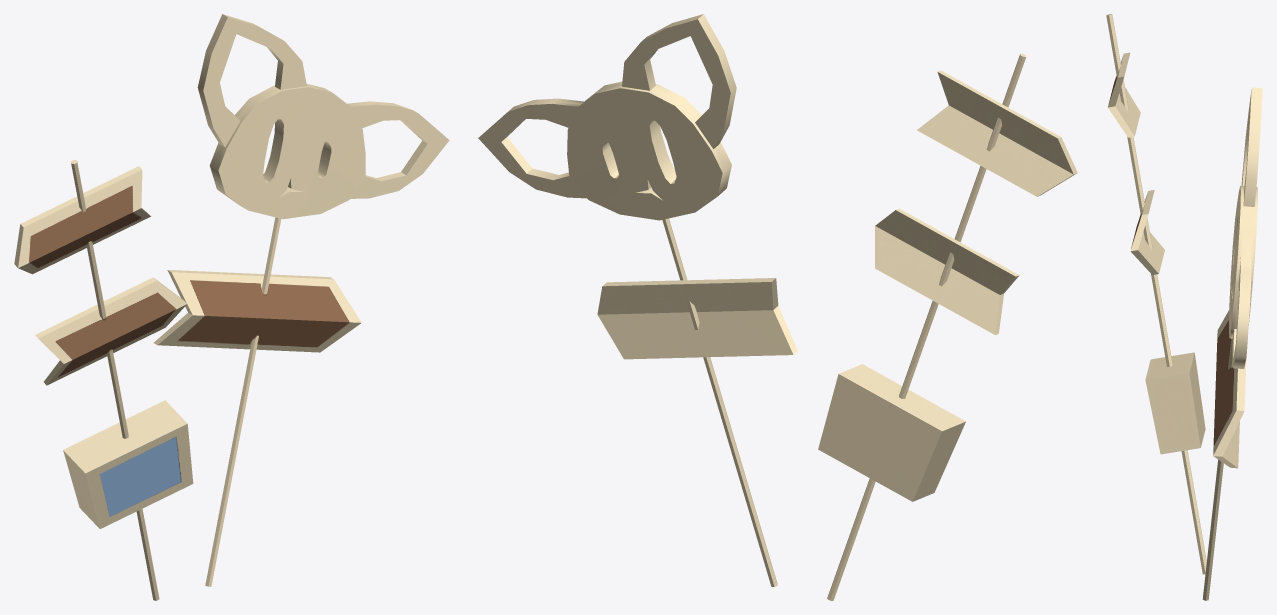
The picture shows the model from 3 angles, left to right: view 1: azimuth 30°, elevation 25°; view 2: azimuth 150°, elevation 25°; view 3: azimuth 270°, elevation 25°; orthographic projection. The views are drawn at different scales.
Visible parts, largest first — view 1: Cylinder002, Cylinder001; view 2: Cylinder002, Cylinder001; view 3: Cylinder001, Cylinder002.
Boxes of the visible parts, x1,y1,x2,y2 form: Cylinder002: (153,14,449,586); Cylinder001: (14,159,193,600); Cylinder002: (478,14,797,586); Cylinder001: (818,53,1077,600); Cylinder001: (1106,14,1206,574); Cylinder002: (1202,87,1262,600).
Bounding box in the file's own units: 201 × 211 × 56.02.
